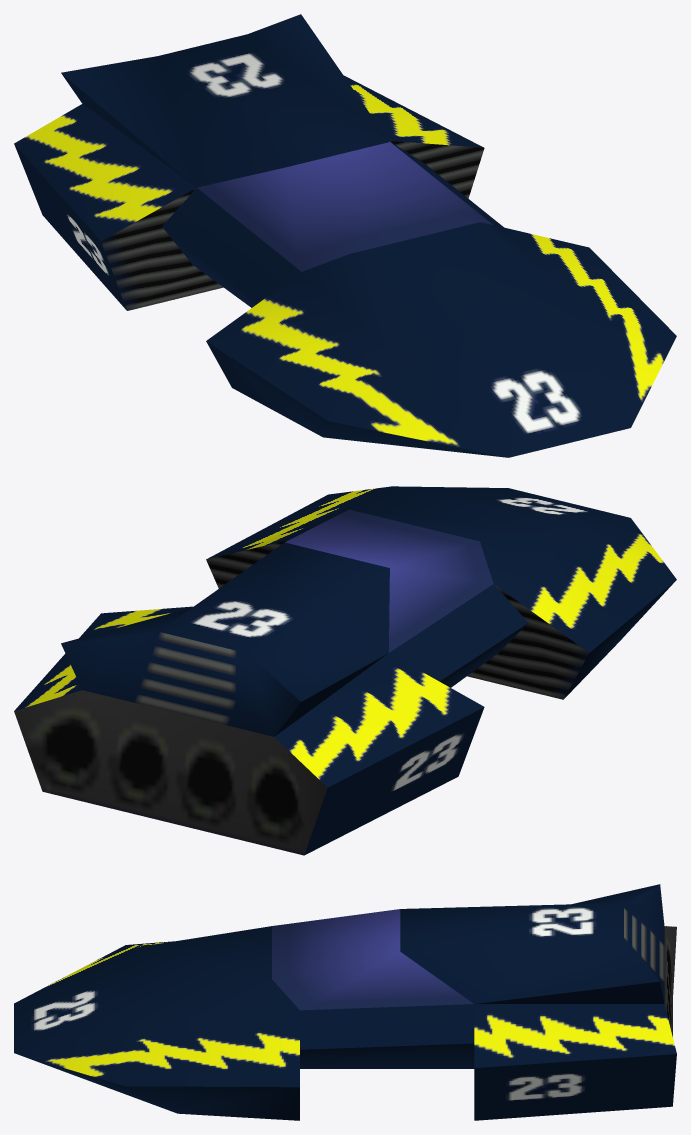
The picture shows the model from 3 angles, top to bottom: view 1: azimuth 30°, elevation 25°; view 2: azimuth 150°, elevation 25°; view 3: azimuth 270°, elevation 25°; orthographic projection. The views are drawn at different scales.
Parts seen in each view (by area): view 1: Joint_0_Object_0; view 2: Joint_0_Object_0; view 3: Joint_0_Object_0.
Boxes of the visible parts, bbox=[...] form: Joint_0_Object_0: bbox=[14, 14, 676, 457]; Joint_0_Object_0: bbox=[14, 486, 676, 855]; Joint_0_Object_0: bbox=[14, 884, 676, 1120].
Size of the model in its own units: 29.03 by 11.55 by 52.31.
Materials: 1 (1 with a texture image).
